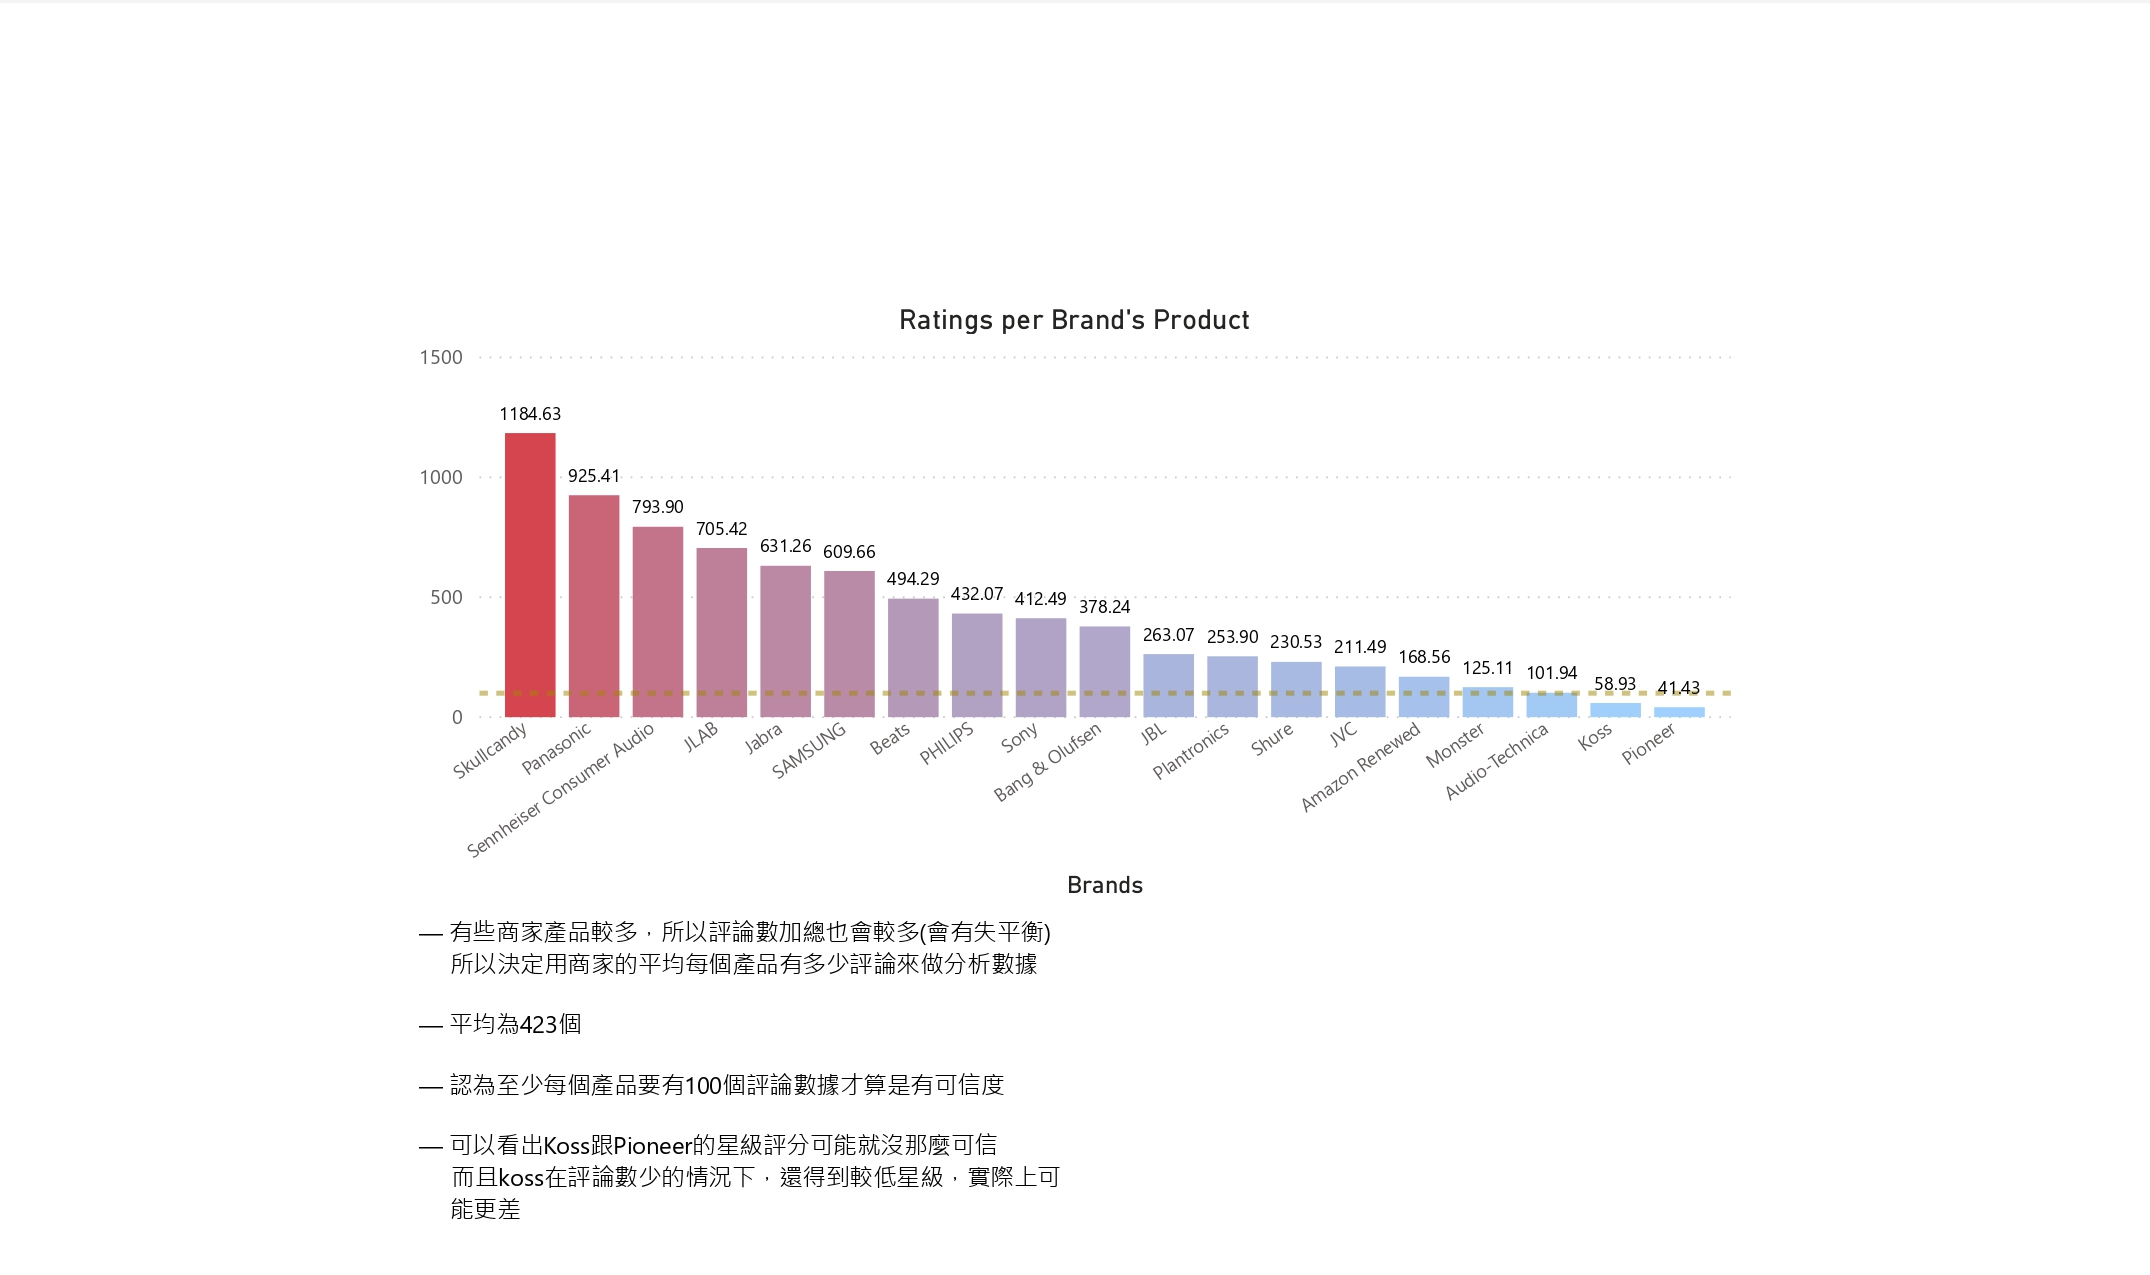

The dashboard page shown, as its layout file describes it:
{"tool":"powerbi","page":{"name":"Ratings","canvas":[1280,720],"ordinal":1},"visuals":[{"type":"columnChart","title":"Ratings per Brand''s Product","fields":{"Category":["Clean_Amazon_Earbuds (2).Brands"],"Y":["Avg(Clean_Amazon_Earbuds (2).Ratings)"]},"box":[244.4,159.4,790.8,360.4],"z":0},{"type":"textbox","box":[244.4,519.9,403.8,200.1],"z":1000}]}

Visuals, with their boxes on the page's 1280x720 design canvas (x1, y1, x2, y2). These are canvas units, not pixel positions in the 2150x1275 screenshot, which may show the page scaled, cropped or inside an application window:
"Ratings per Brand''s Product" columnChart: {"x1": 244, "y1": 159, "x2": 1035, "y2": 520}
textbox: {"x1": 244, "y1": 520, "x2": 648, "y2": 720}
